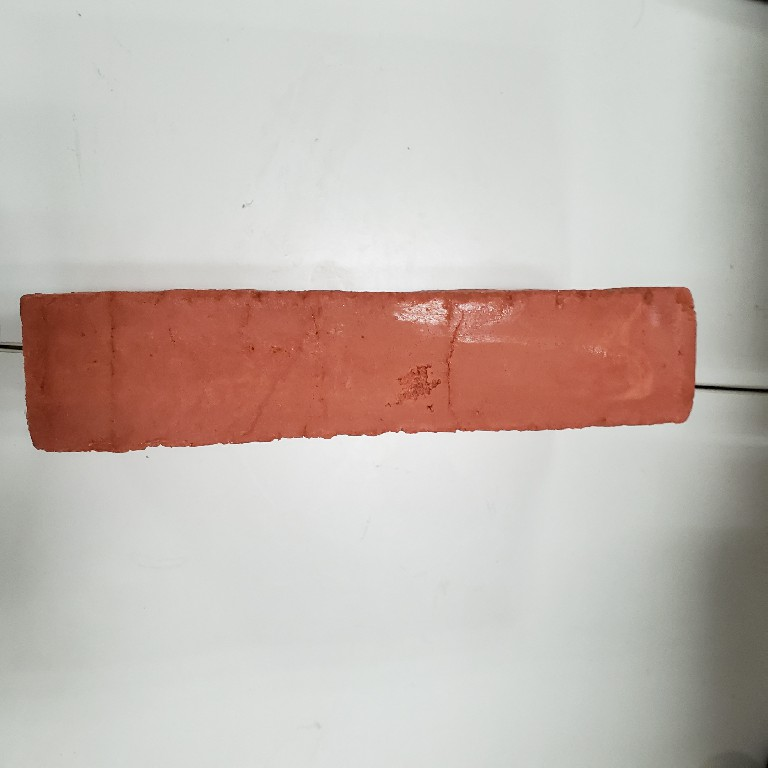brick: (11, 281, 704, 456)
